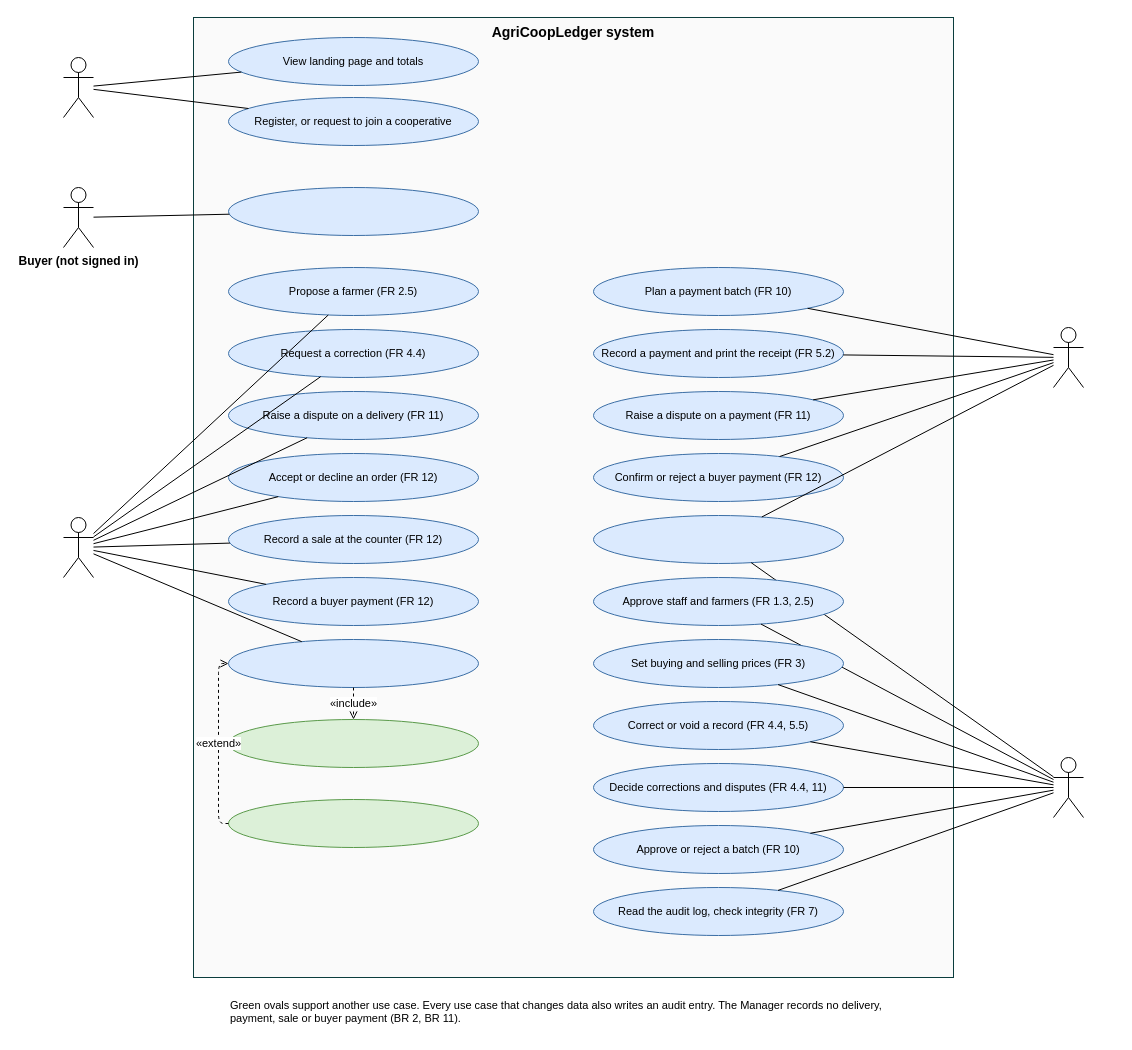
The diagram is 1132 pixels wide and 1050 high, and some of its shapes have lost their labels. The centre of each missing label's shape, as x and y in pixels:
"Collection Clerk" belongs at point 78,547.
"Keep on this device until online (FR 4.10)" belongs at point 353,823.
"Manager" belongs at point 1068,787.
"Payment Officer" belongs at point 1068,357.
"Read reports and the dashboard (FR 6)" belongs at point 718,539.
"Record a delivery and print the receipt (FR 4.1)" belongs at point 353,663.
"See stock and send an order request" belongs at point 353,211.
"Visitor (not signed in)" belongs at point 78,87.
"Work out the value from the price in force (FR 4.5)" belongs at point 353,743.
